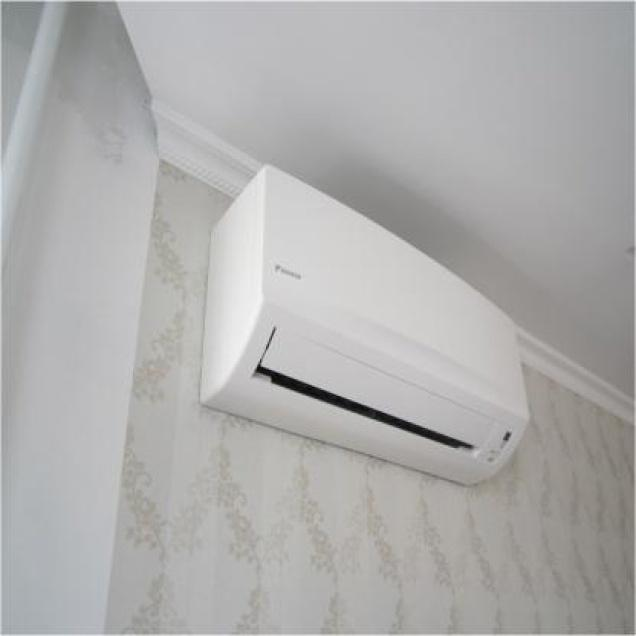AC: (198, 162, 530, 489)
